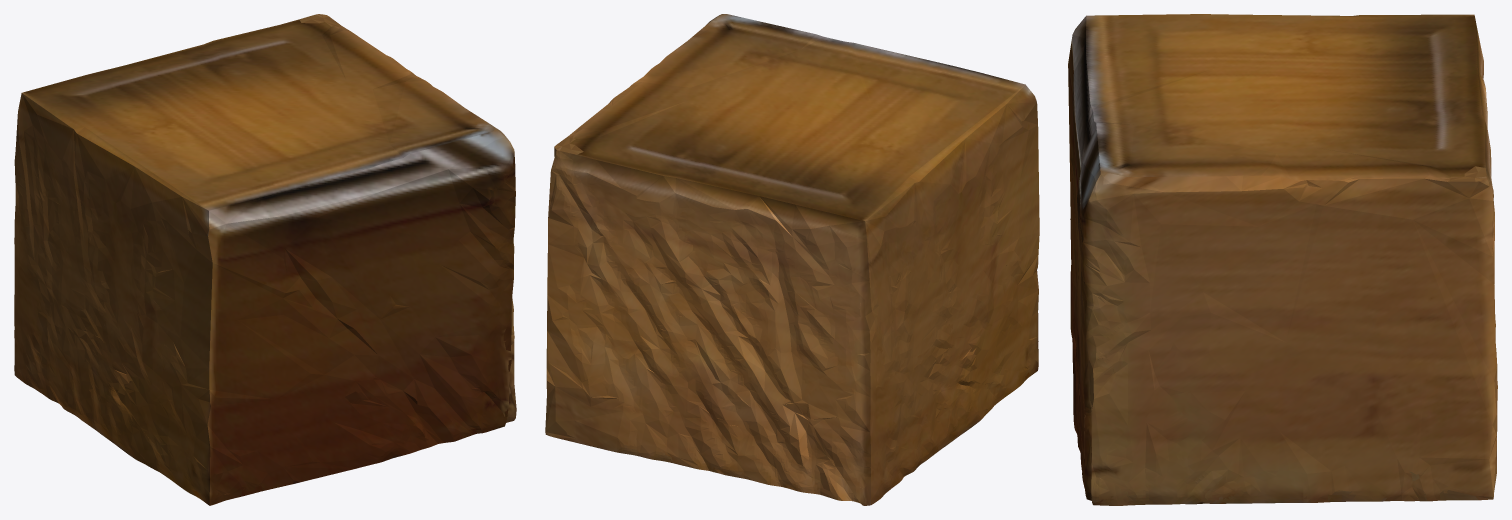
The model's file is DecorationPlainWoodenBox.obj.
The picture shows the model from 3 angles, left to right: view 1: azimuth 30°, elevation 25°; view 2: azimuth 150°, elevation 25°; view 3: azimuth 270°, elevation 25°; orthographic projection. The views are drawn at different scales.
Bounding box in the file's own units: 70.55 × 59.64 × 70.94.
Materials: 1 (1 with a texture image).
